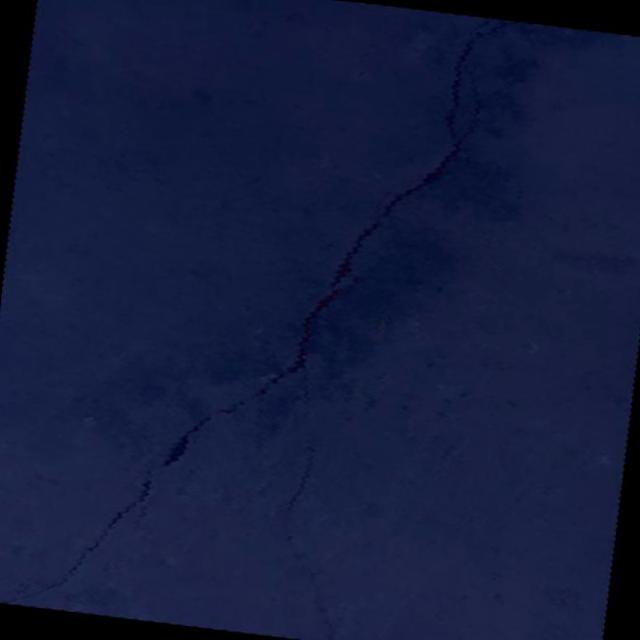crack: (4, 0, 517, 640), (288, 455, 313, 512)
